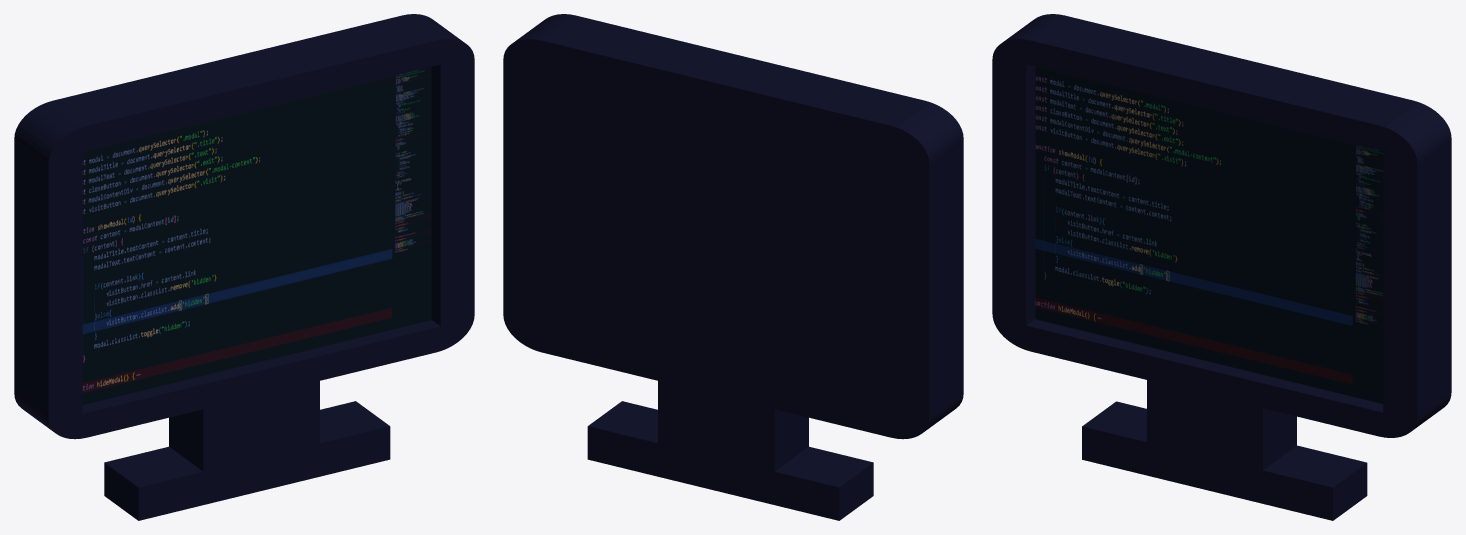
File: Computer.glb
3 renders of one model, left to right at view 1: azimuth 30°, elevation 25°; view 2: azimuth 150°, elevation 25°; view 3: azimuth 330°, elevation 25°, orthographic.
Parts seen in each view (by area): view 1: Cube; view 2: Cube; view 3: Cube.
Boxes of the visible parts, x1,y1,x2,y2 form: Cube: (14, 14, 474, 520); Cube: (503, 14, 963, 520); Cube: (992, 14, 1451, 520).
Bounding box in the file's own units: 2.86 × 2.61 × 0.3987.
Materials: 2 (1 with a texture image).
